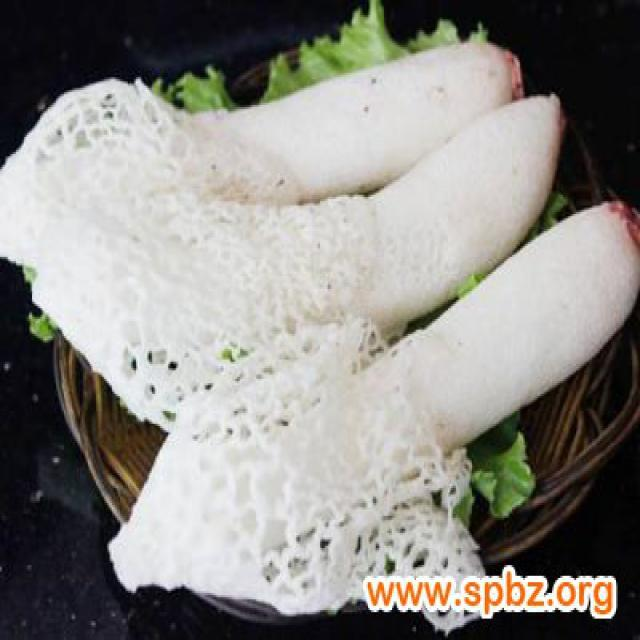Dictyophora indusiate: (109, 205, 639, 628), (31, 100, 562, 376), (0, 42, 524, 272)
